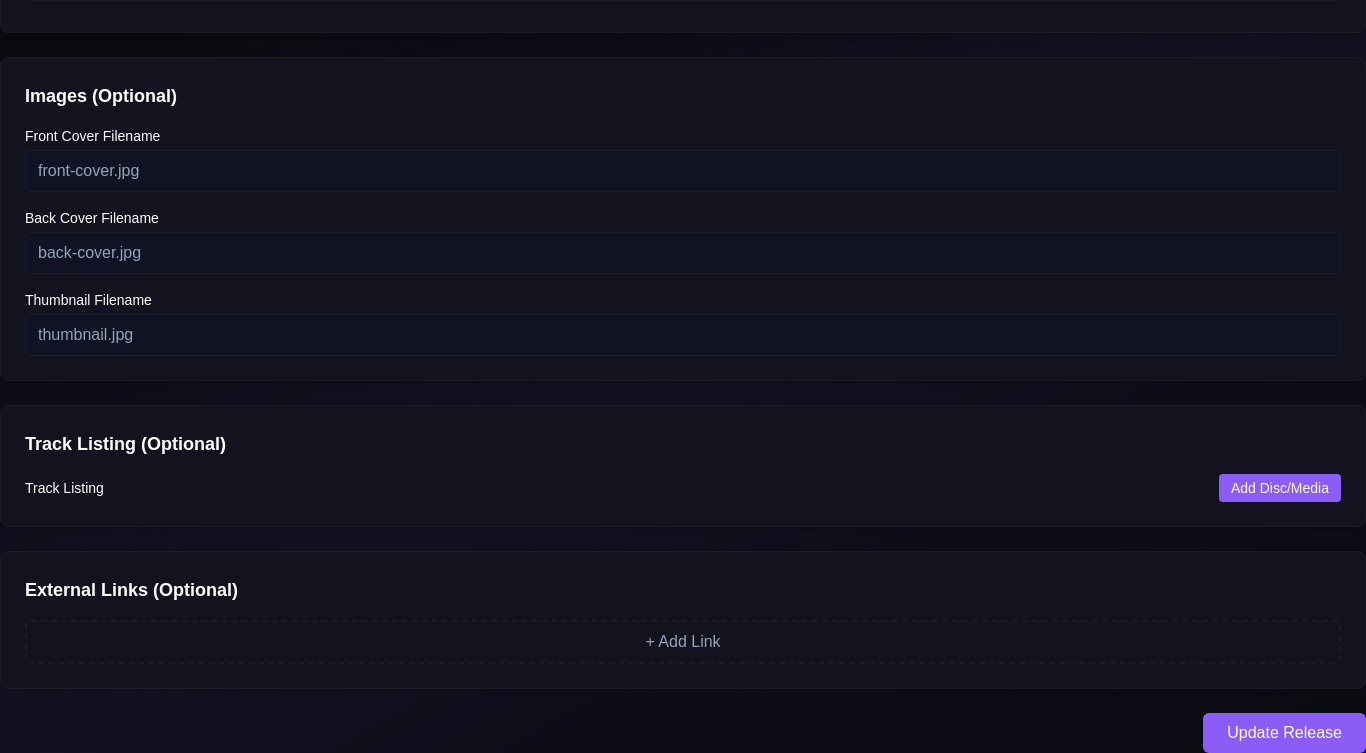
Test case: AddReleaseForm - Edit Mode › displays backend API validation errors on submit
The width and height of the screenshot is (1366, 753).
(page scrolled)
Click the button "Update Release".
click(1285, 733)  # box [1203, 713, 1365, 752]
(page scrolled)
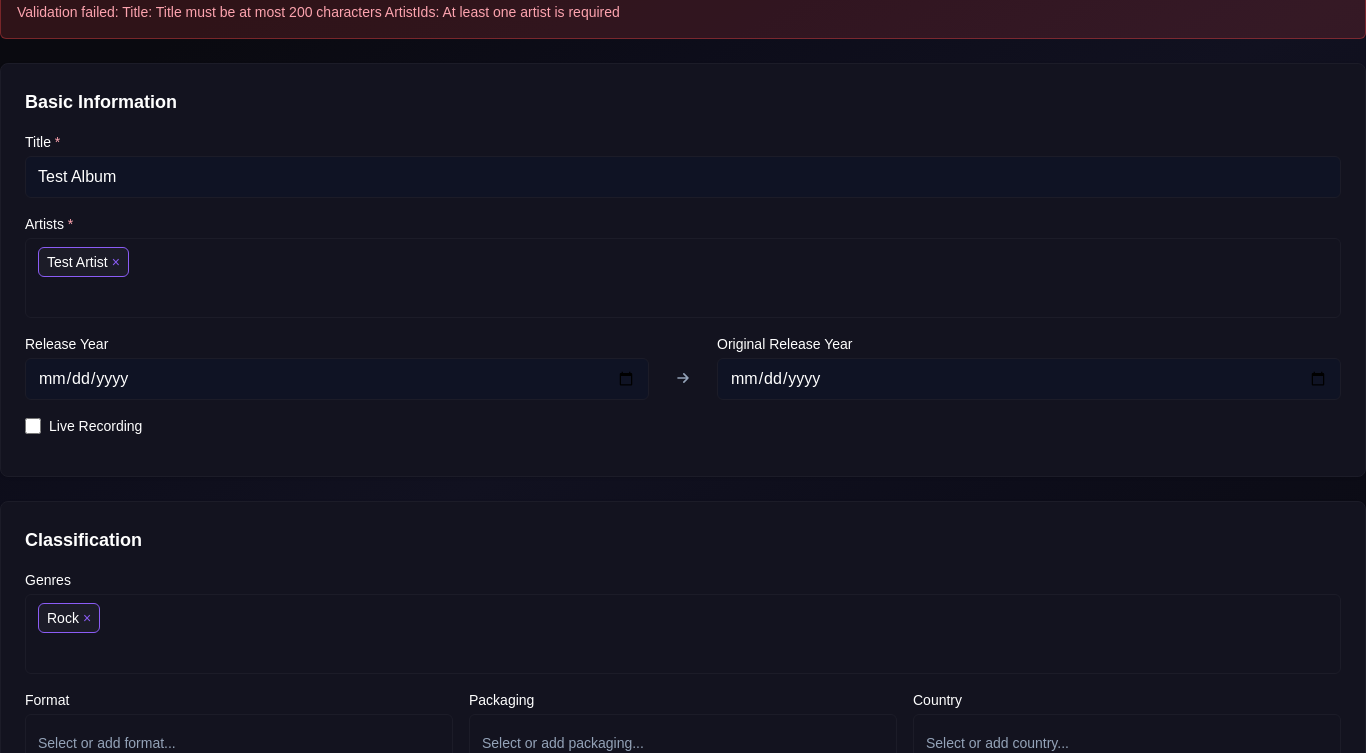
Result: the message shows "Validation failed" at [17, 4, 620, 20]
